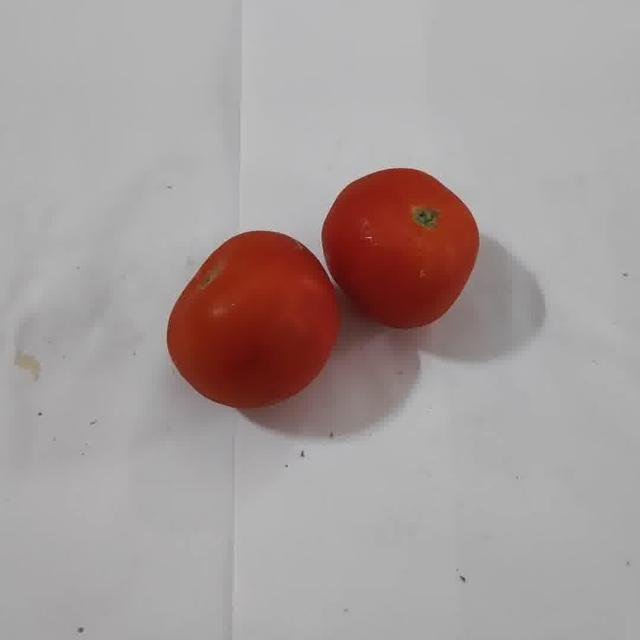Tomato: (167, 231, 340, 409), (322, 169, 480, 328)
